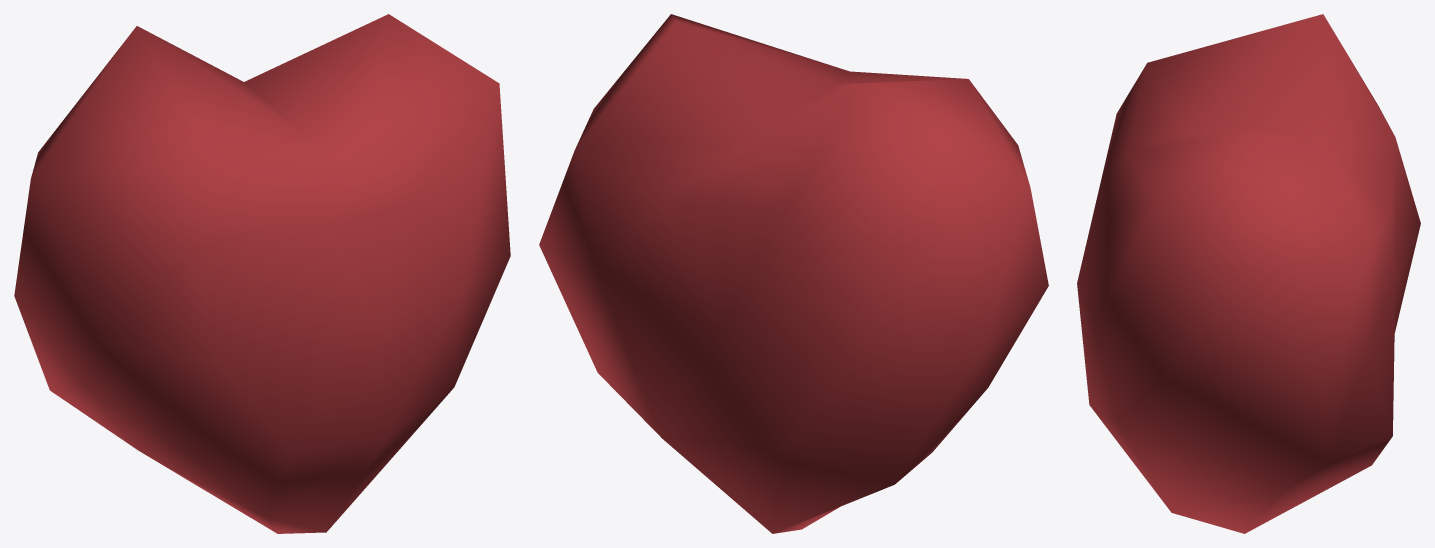
File: heart.dae
3 views of the same model, side by side, from view 1: azimuth 30°, elevation 25°; view 2: azimuth 150°, elevation 25°; view 3: azimuth 270°, elevation 25° (orthographic). The views are drawn at different scales.
Visible parts, largest first — view 1: Icosphere; view 2: Icosphere; view 3: Icosphere.
Part boxes in pixels (bbox=[...]): Icosphere: bbox=[14, 14, 510, 533]; Icosphere: bbox=[539, 14, 1048, 533]; Icosphere: bbox=[1077, 14, 1420, 533].
Bounding box in the file's own units: 1.97 × 1.35 × 2.06.
